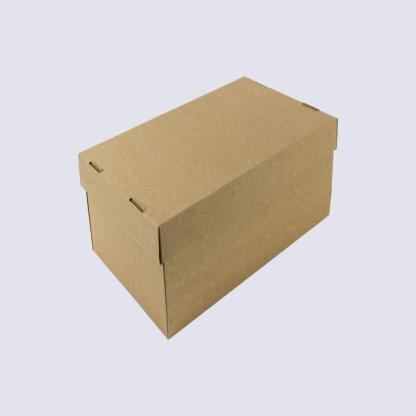box: (76, 71, 339, 341)
